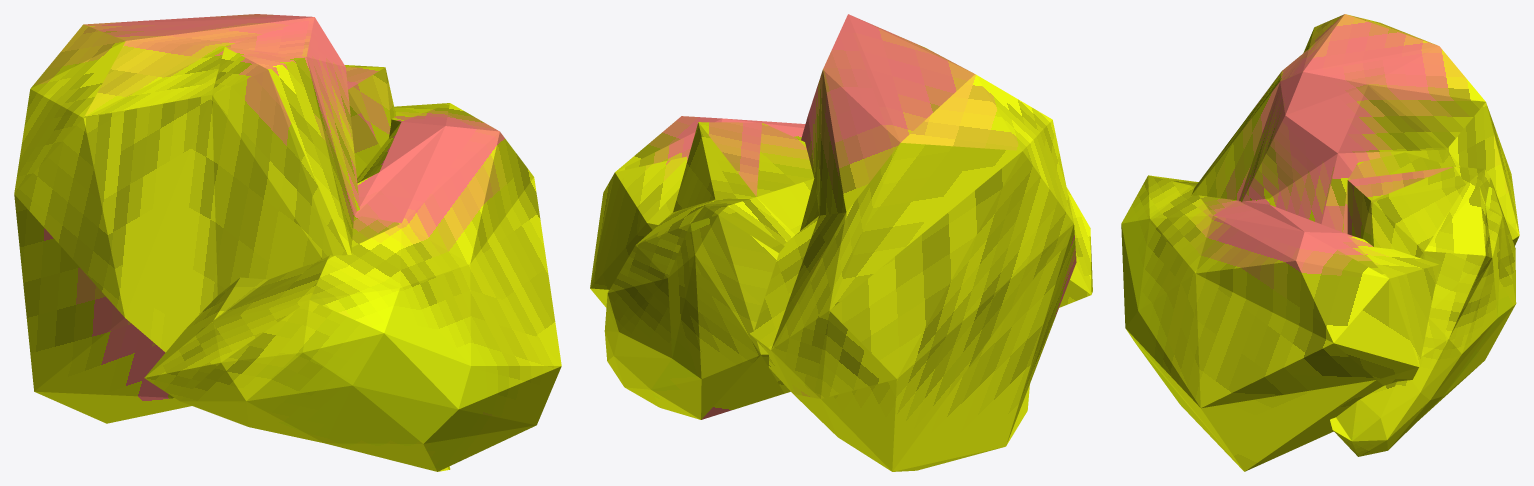
File: Sulfur.fbx
3 renders of one model, left to right at view 1: azimuth 30°, elevation 25°; view 2: azimuth 150°, elevation 25°; view 3: azimuth 270°, elevation 25°, orthographic. The views are drawn at different scales.
Parts seen in each view (by area): view 1: Iron; view 2: Iron; view 3: Iron.
Boxes of the visible parts, left/top/right/bottom form: Iron: left=14, top=14, right=561, bottom=471; Iron: left=590, top=14, right=1092, bottom=471; Iron: left=1121, top=14, right=1519, bottom=471.
Bounding box in the file's own units: 5.24 × 4.58 × 4.19.
